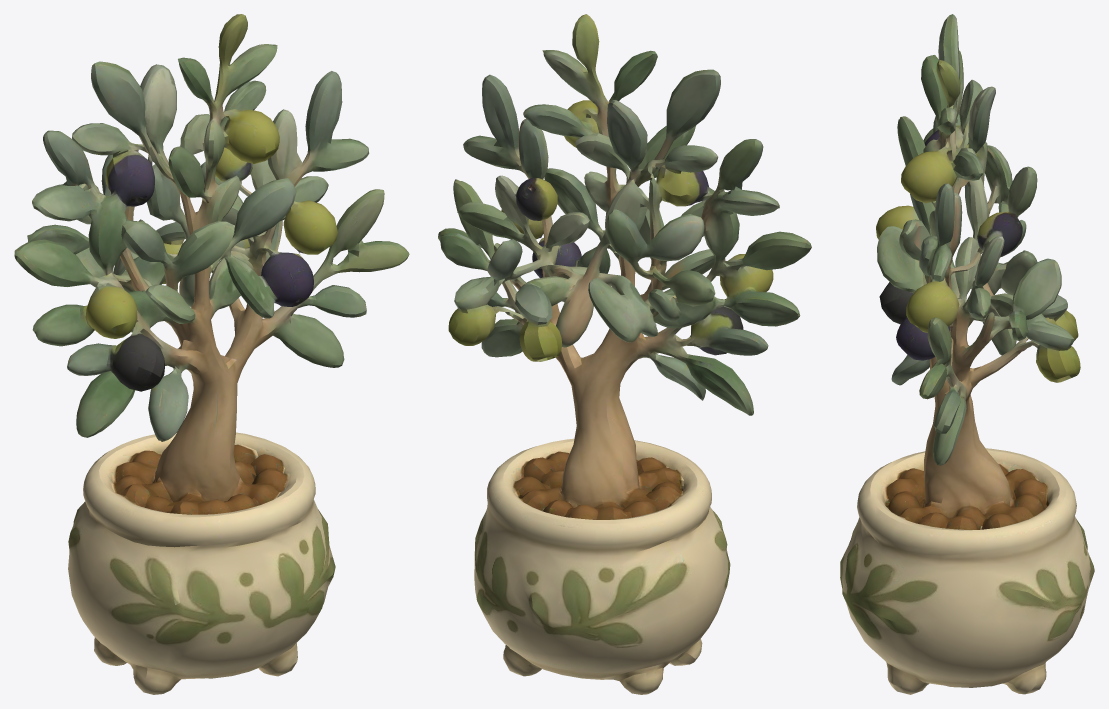
The model's file is Meshy_AI_model.glb.
3 renders of one model, left to right at view 1: azimuth 30°, elevation 25°; view 2: azimuth 150°, elevation 25°; view 3: azimuth 270°, elevation 25°, orthographic. The views are drawn at different scales.
Parts seen in each view (by area): view 1: Mesh0; view 2: Mesh0; view 3: Mesh0.
Boxes of the visible parts, bbox=[...] form: Mesh0: bbox=[14, 14, 409, 694]; Mesh0: bbox=[438, 14, 811, 694]; Mesh0: bbox=[840, 14, 1094, 694].
Size of the model in its own units: 1.18 by 1.9 by 0.7026.
1 material, 1 textured.
